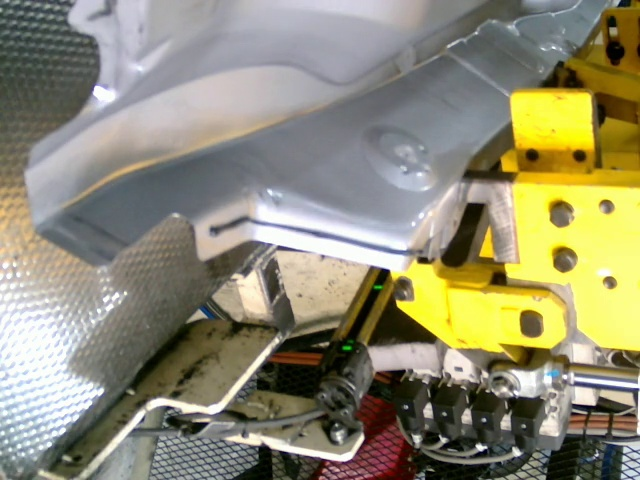line: (207, 210, 423, 259)
